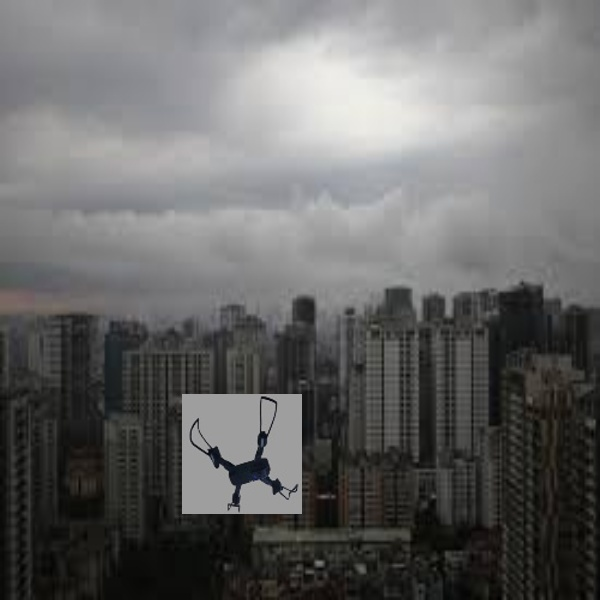drone: (183, 394, 301, 510)
